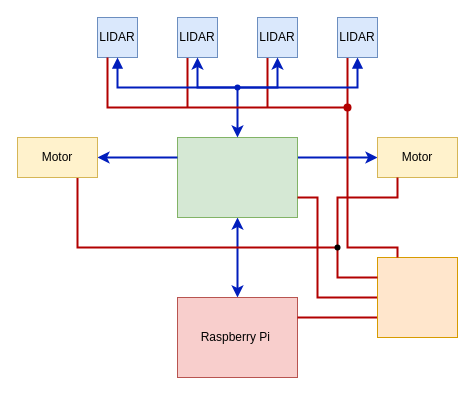
Some shapes in this 475 by 395 pixel diagram are drawn without their labels. The shapes that lost their labels are listed below. From the top down, each one's centre as x and y in pixels, then its label:
At (x=237, y=177): "Control".
At (x=417, y=297): "Power Supply".
